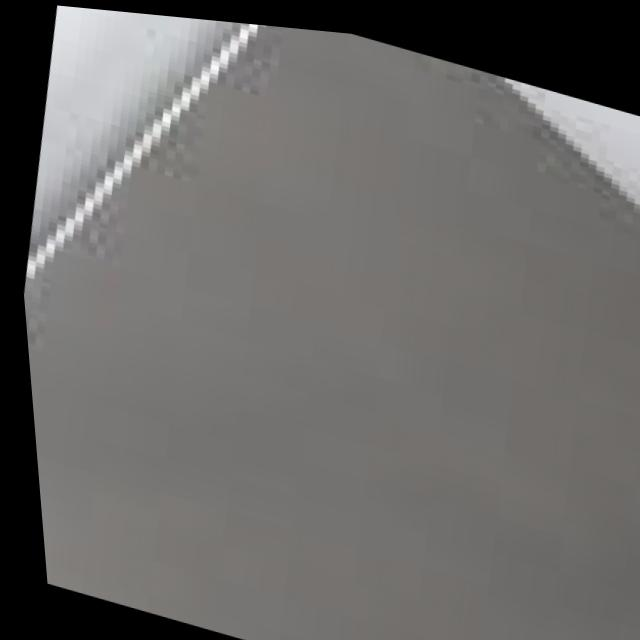metal-plates: (20, 18, 640, 640)
